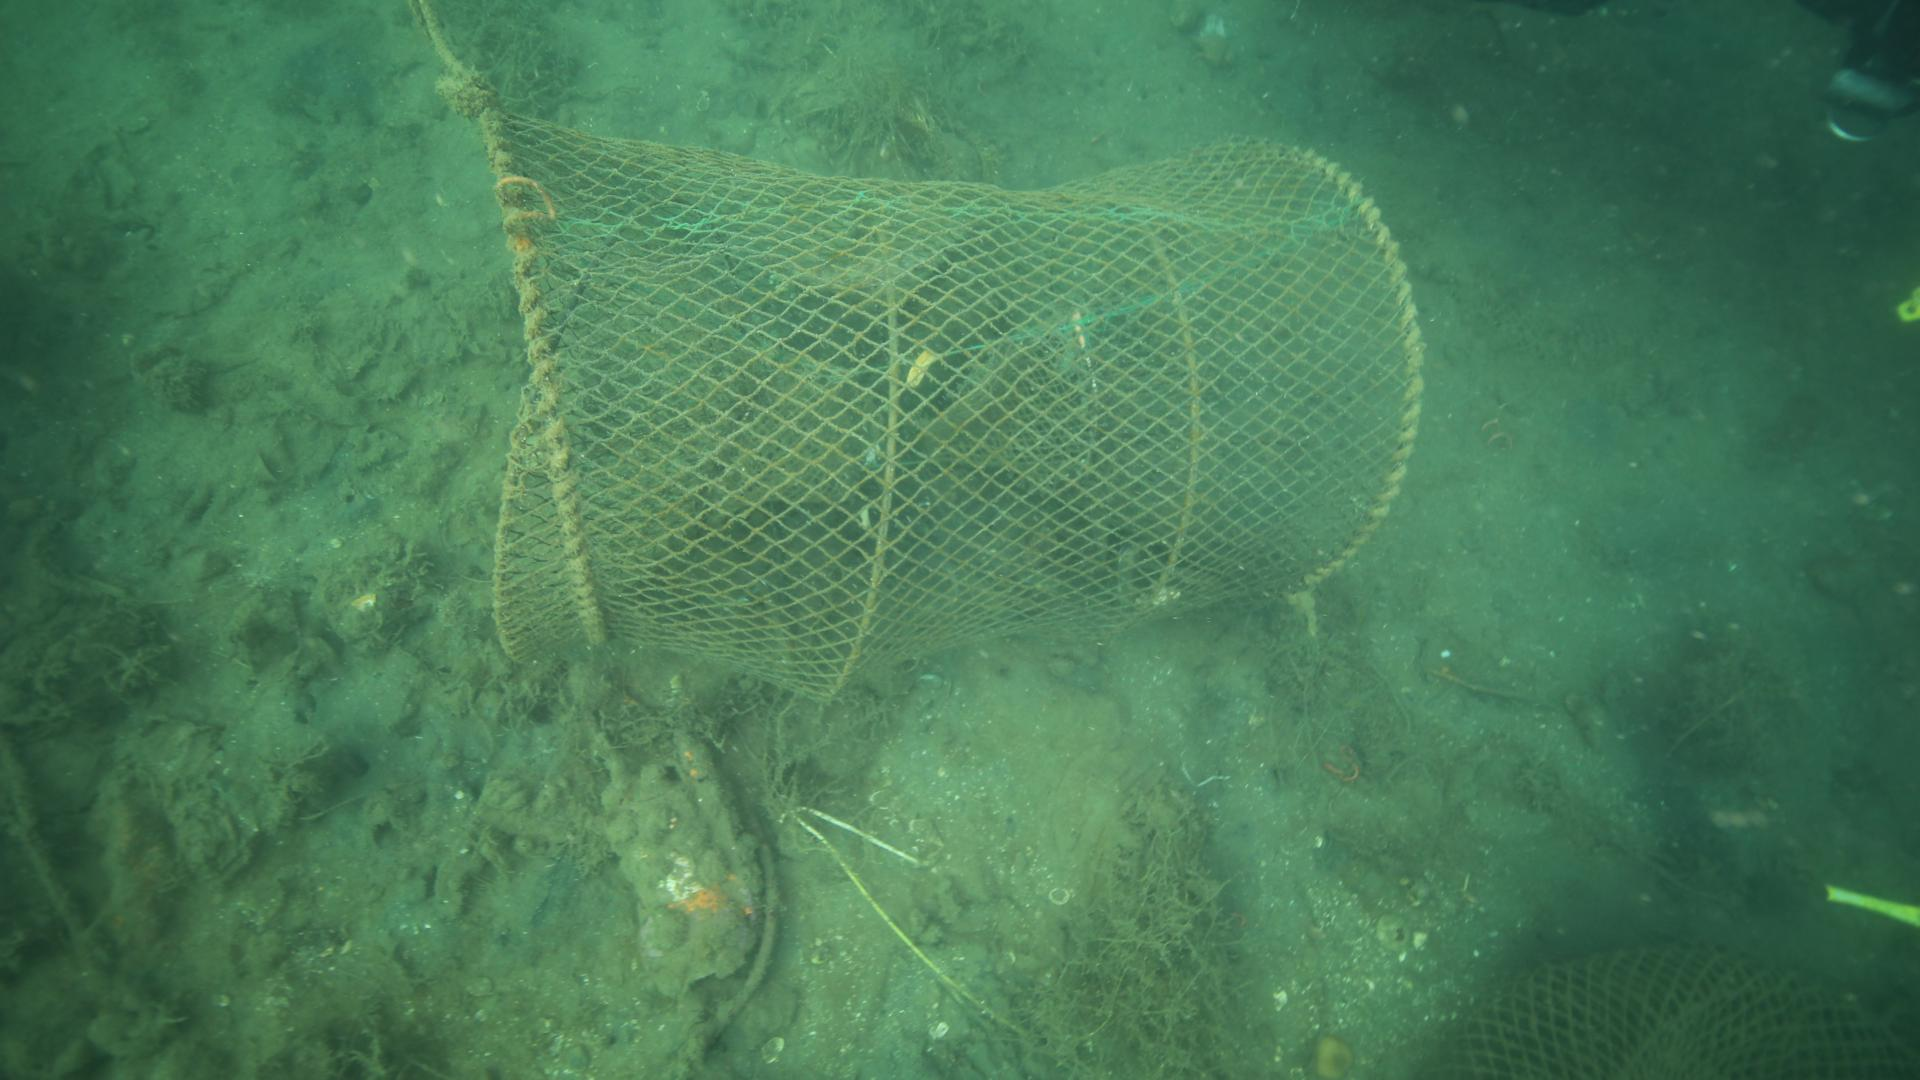spring fish trap: (425, 69, 1429, 702)
